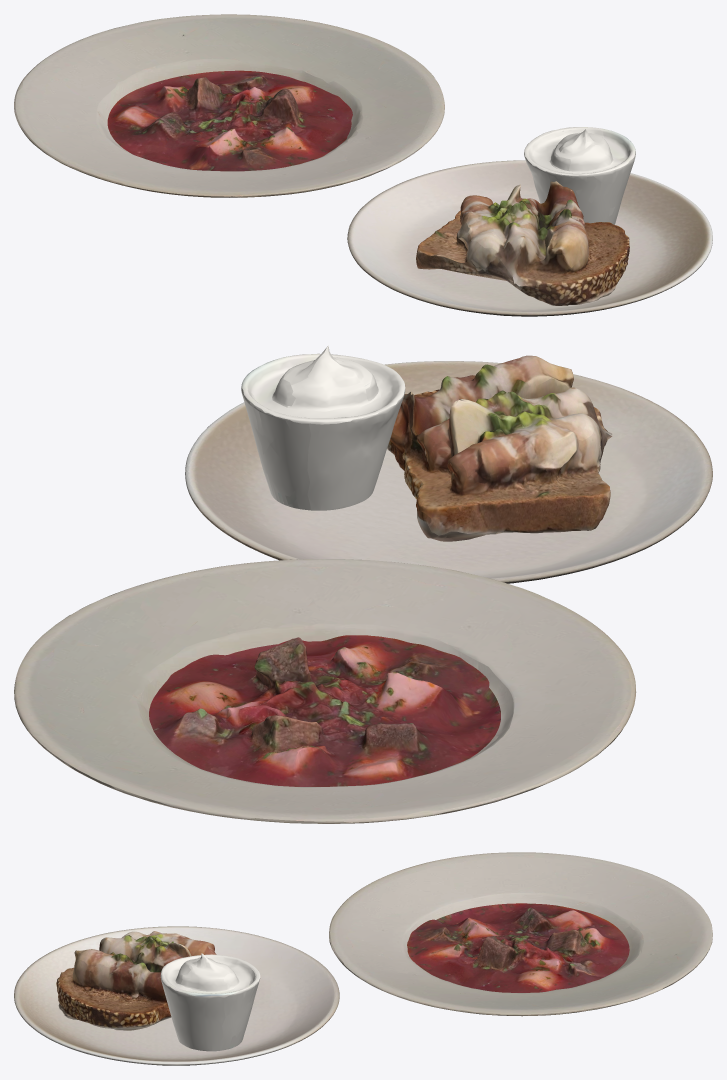
The model's file is borsch.with.beef001.glb.
The picture shows the model from 3 angles, top to bottom: view 1: azimuth 30°, elevation 25°; view 2: azimuth 150°, elevation 25°; view 3: azimuth 270°, elevation 25°; orthographic projection. The views are drawn at different scales.
Parts seen in each view (by area): view 1: /Root/Scenes/Scene/Object_37/Object_38/Submesh_0, /Root/Scenes/Scene/Object_37/Object_43/Object_44/Submesh_0, /Root/Scenes/Scene/Object_37/Object_39/Submesh_0, /Root/Scenes/Scene/Object_37/Object_40/Submesh_0, /Root/Scenes/Scene/Object_37/Object_41/Object_42/Submesh_0; view 2: /Root/Scenes/Scene/Object_37/Object_38/Submesh_0, /Root/Scenes/Scene/Object_37/Object_39/Submesh_0, /Root/Scenes/Scene/Object_37/Object_43/Object_44/Submesh_0, /Root/Scenes/Scene/Object_37/Object_40/Submesh_0, /Root/Scenes/Scene/Object_37/Object_41/Object_42/Submesh_0; view 3: /Root/Scenes/Scene/Object_37/Object_38/Submesh_0, /Root/Scenes/Scene/Object_37/Object_43/Object_44/Submesh_0, /Root/Scenes/Scene/Object_37/Object_39/Submesh_0, /Root/Scenes/Scene/Object_37/Object_40/Submesh_0, /Root/Scenes/Scene/Object_37/Object_41/Object_42/Submesh_0.
Boxes of the visible parts, box(x1,y1,x2,y2) form: /Root/Scenes/Scene/Object_37/Object_38/Submesh_0: box(14, 14, 444, 197); /Root/Scenes/Scene/Object_37/Object_43/Object_44/Submesh_0: box(347, 160, 712, 316); /Root/Scenes/Scene/Object_37/Object_39/Submesh_0: box(107, 70, 352, 171); /Root/Scenes/Scene/Object_37/Object_40/Submesh_0: box(416, 181, 629, 305); /Root/Scenes/Scene/Object_37/Object_41/Object_42/Submesh_0: box(524, 127, 635, 224); /Root/Scenes/Scene/Object_37/Object_38/Submesh_0: box(14, 559, 636, 823); /Root/Scenes/Scene/Object_37/Object_39/Submesh_0: box(149, 635, 500, 786); /Root/Scenes/Scene/Object_37/Object_43/Object_44/Submesh_0: box(185, 361, 712, 583); /Root/Scenes/Scene/Object_37/Object_40/Submesh_0: box(387, 355, 612, 541); /Root/Scenes/Scene/Object_37/Object_41/Object_42/Submesh_0: box(241, 345, 405, 510); /Root/Scenes/Scene/Object_37/Object_38/Submesh_0: box(329, 852, 712, 1016); /Root/Scenes/Scene/Object_37/Object_43/Object_44/Submesh_0: box(14, 926, 339, 1065); /Root/Scenes/Scene/Object_37/Object_39/Submesh_0: box(407, 903, 629, 992); /Root/Scenes/Scene/Object_37/Object_40/Submesh_0: box(56, 931, 216, 1030); /Root/Scenes/Scene/Object_37/Object_41/Object_42/Submesh_0: box(160, 953, 260, 1051).
Size of the model in its own units: 0.2858 by 0.0672 by 0.4293.
Materials: 5 (5 with a texture image).
